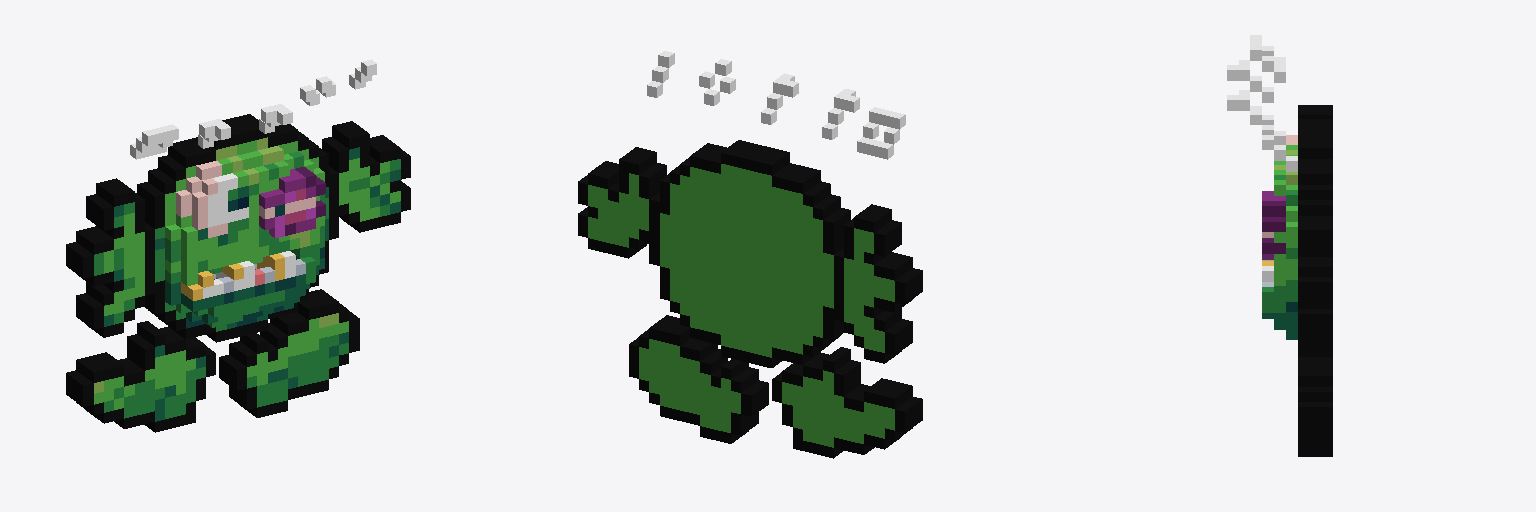
3 views of the same model, side by side, from view 1: azimuth 30°, elevation 25°; view 2: azimuth 150°, elevation 25°; view 3: azimuth 270°, elevation 25° (orthographic).
Visible parts, largest first — view 1: object 1; view 2: object 1; view 3: object 1.
Part boxes in pixels (x1,y1,x2,y2): object 1: (66, 59, 410, 432); object 1: (578, 51, 922, 458); object 1: (1227, 35, 1332, 456).
Bounding box in the file's own units: 3.2 × 3.2 × 0.9.
Materials: 1 (1 with a texture image).